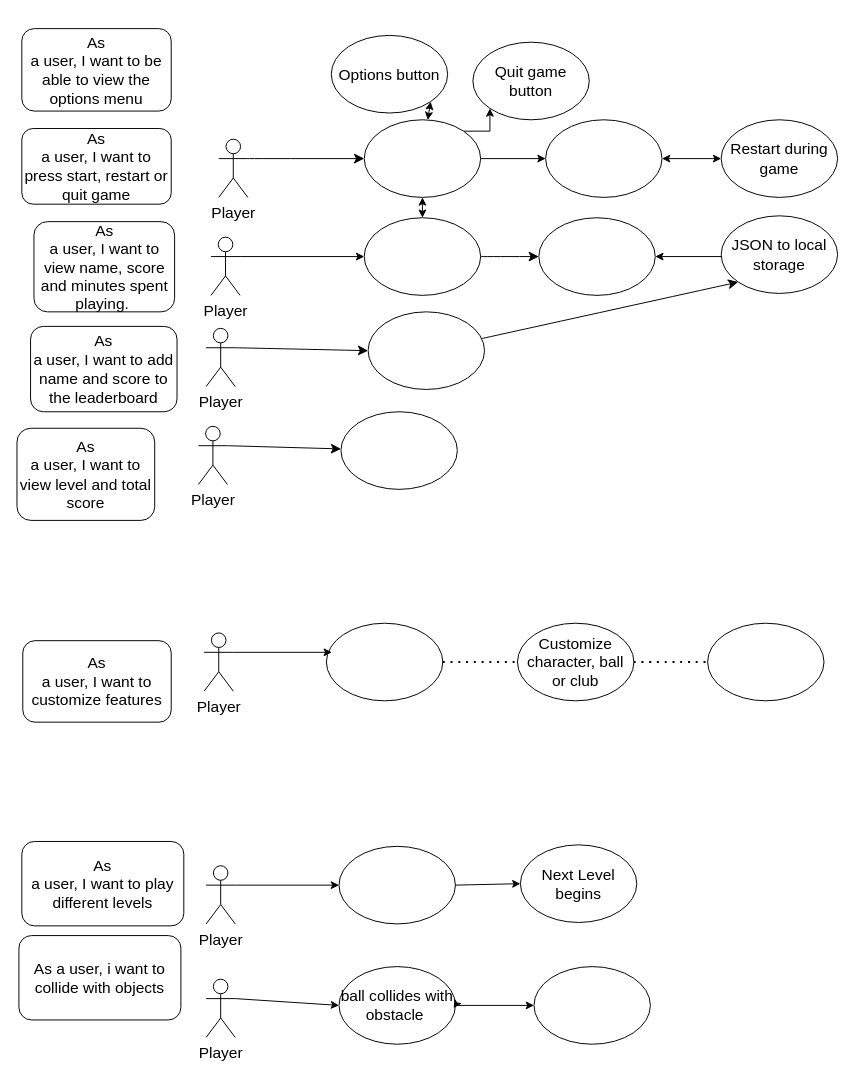
This 855x1079 diagram has some shape labels left out. The centre of each missing label's shape, as x and y in pixels:
"ball collides with hole" goes at pixel 396 884.
"Home menu" goes at pixel 422 158.
"Input name and save" goes at pixel 426 350.
"Open Leaderboard" goes at pixel 422 256.
"Options" goes at pixel 384 661.
"Respawn Ball" goes at pixel 591 1005.
"Save details" goes at pixel 765 661.
"Start Game" goes at pixel 603 158.
"View on top of game page" goes at pixel 398 450.
"View stats (name, score, mins playing)" goes at pixel 596 256.
